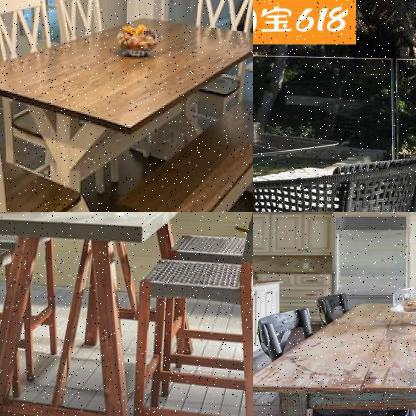table: (0, 10, 252, 211), (0, 212, 210, 415), (253, 296, 415, 415), (253, 125, 343, 211)
